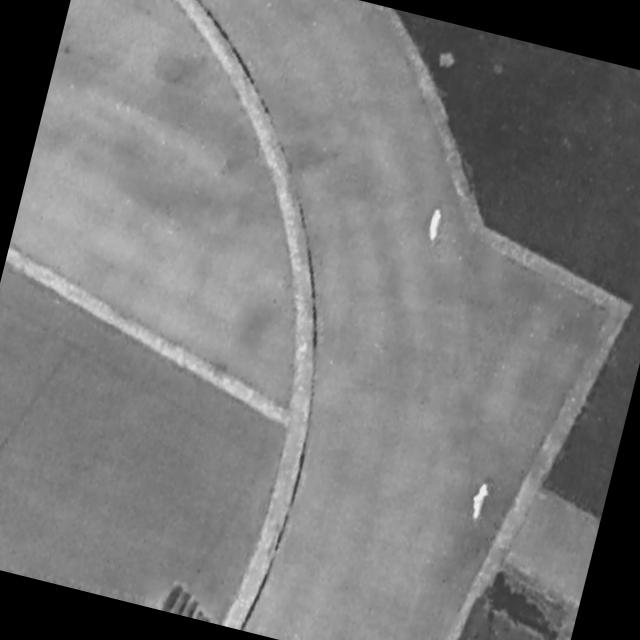person: (466, 477, 492, 525), (422, 206, 447, 246)
